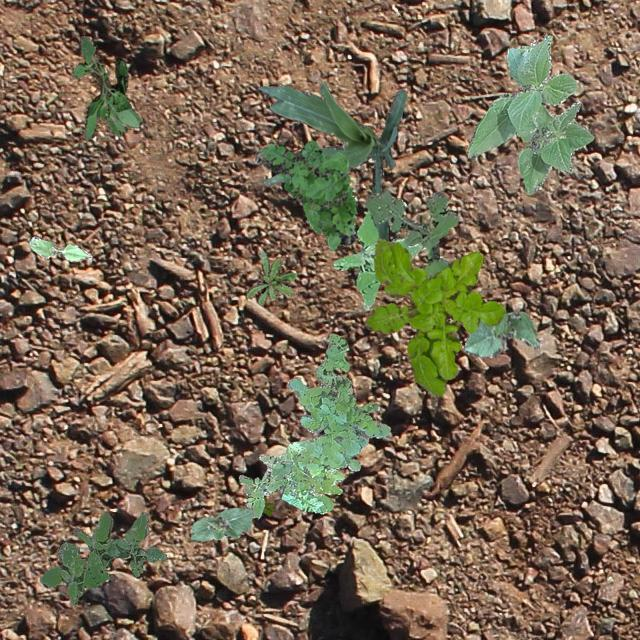crop: (256, 80, 406, 240), (466, 34, 594, 194), (462, 310, 540, 356), (190, 506, 252, 540), (28, 236, 90, 260)
weed: (364, 238, 504, 396), (274, 332, 389, 512), (38, 511, 165, 604), (254, 138, 356, 250), (332, 210, 422, 308), (364, 188, 458, 278), (70, 34, 140, 140), (238, 452, 294, 516), (246, 250, 294, 304), (262, 496, 272, 516)
